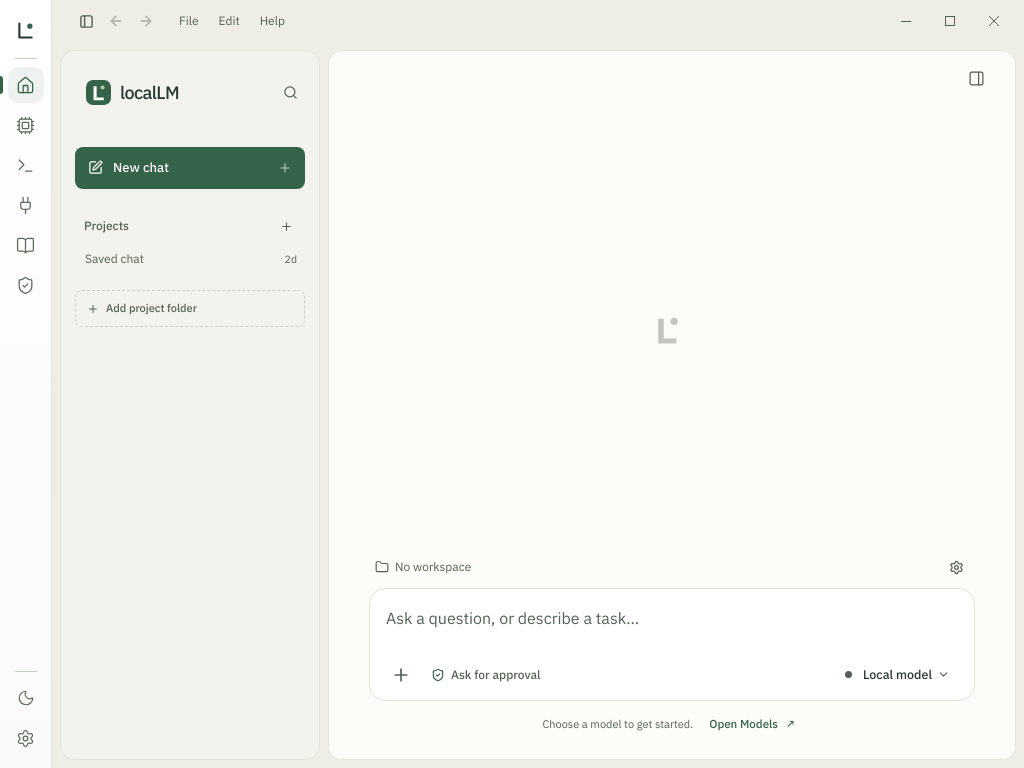
Test: remembered tool selection › restores non-workspace remembered selections for an unscoped new chat at startup
Step 1. Click the button named "Tools" → click(26, 285), box x1=8 y1=267 x2=44 y2=303
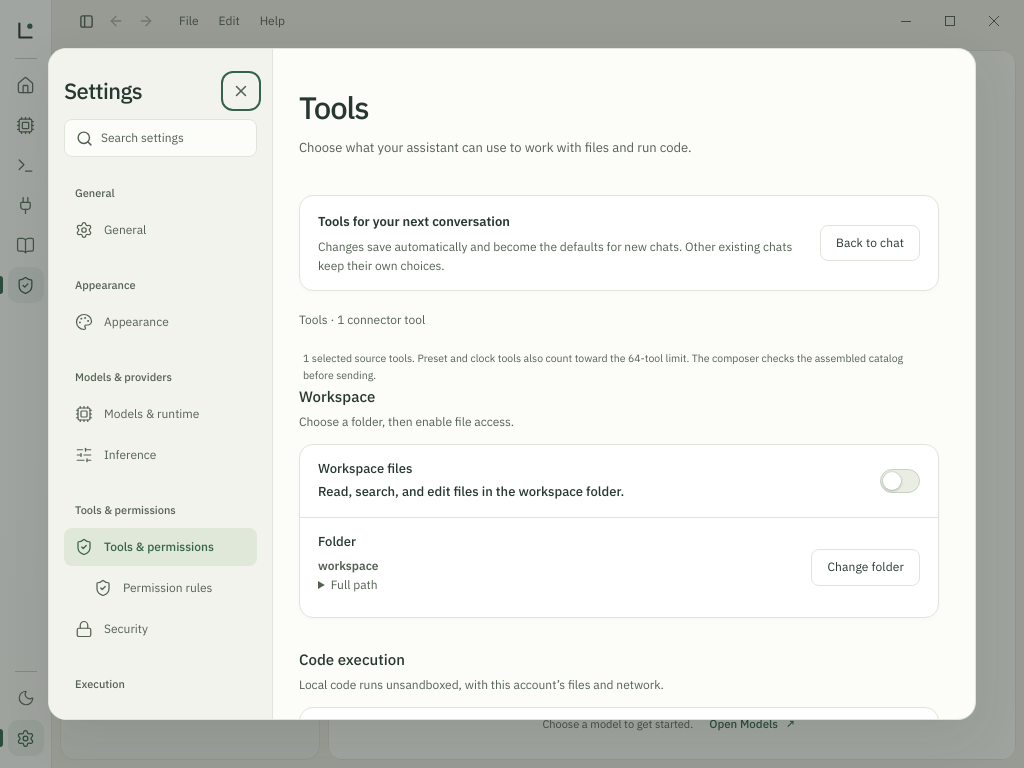
Check: the checkbox named "Workspace files" is not checked, box x1=880 y1=469 x2=920 y2=493
Check: the text "Tools · 1 connector tool" is shown, box x1=299 y1=312 x2=425 y2=327
